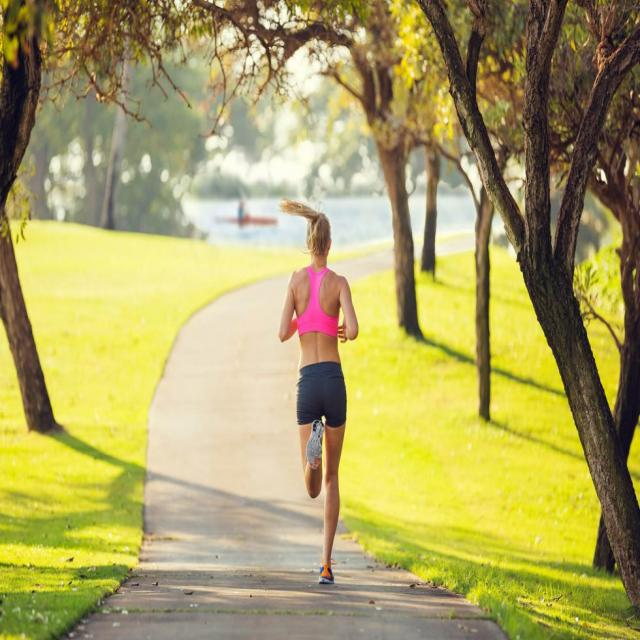Person: (277, 198, 358, 586)
